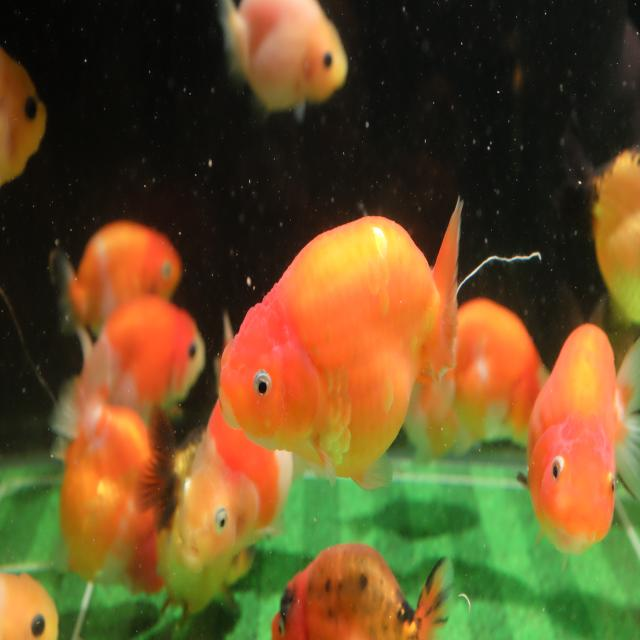Goldfish: (218, 193, 465, 492), (516, 321, 640, 557), (48, 373, 165, 600), (174, 395, 294, 580), (271, 538, 457, 640), (217, 0, 349, 127), (49, 219, 183, 340), (76, 294, 207, 411), (1, 34, 47, 190), (0, 568, 62, 638)
